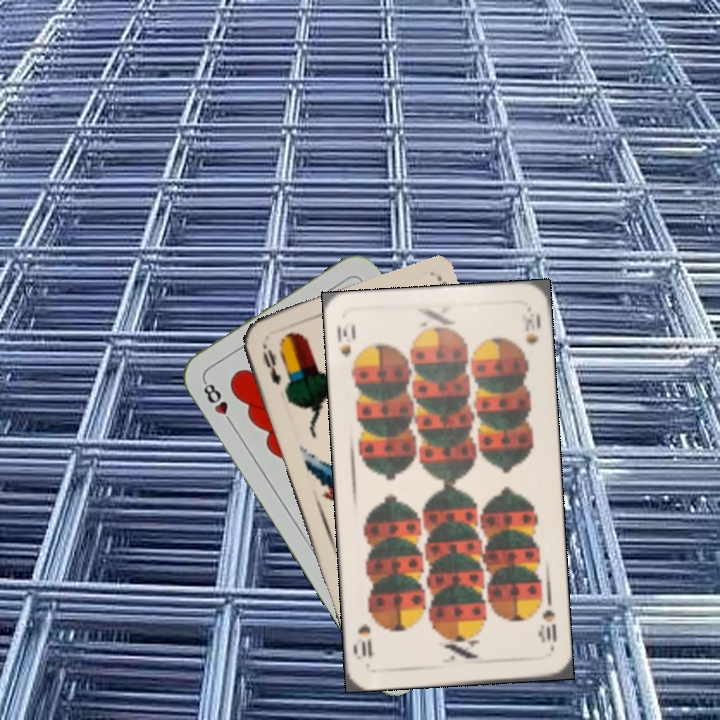EO: (258, 339, 284, 388)
H8: (199, 376, 237, 429)
S10: (333, 317, 360, 375), (535, 605, 559, 653)
